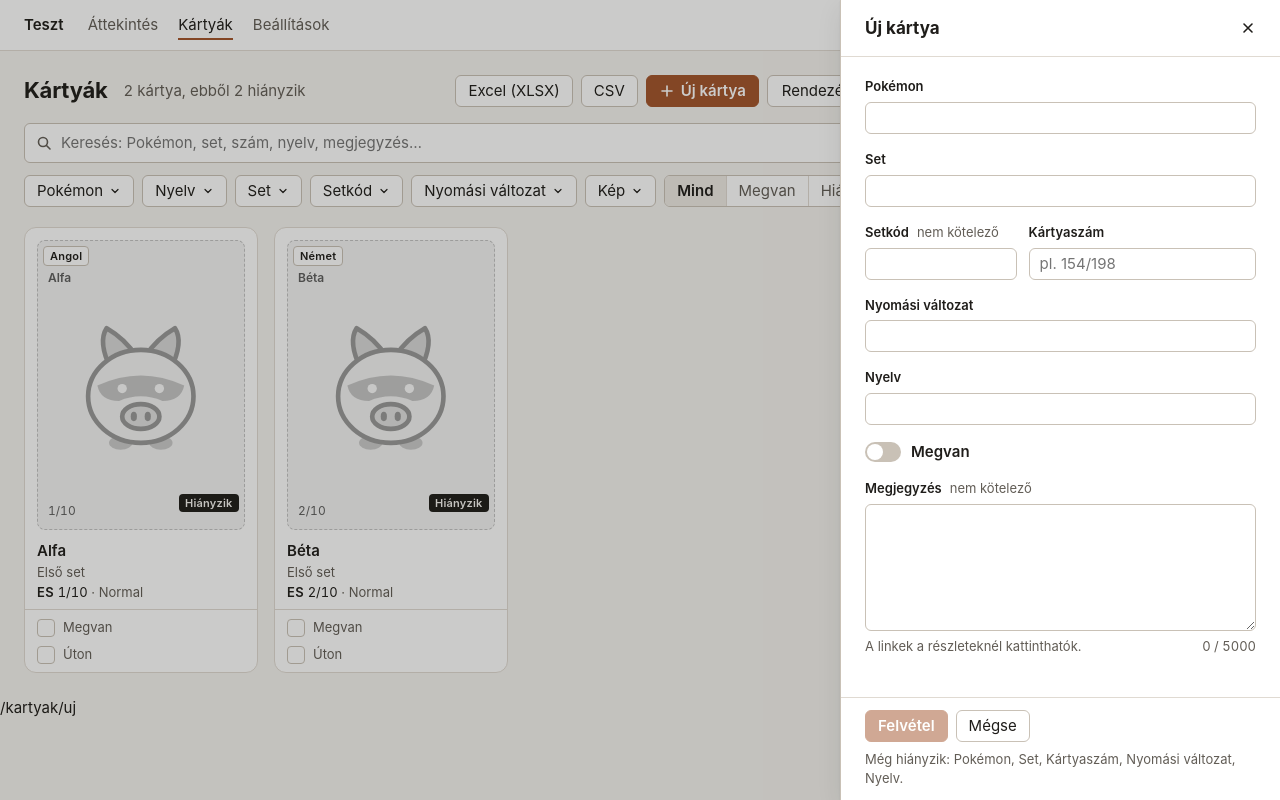
it: új kártya űrlap (S-21) › T-CRD-01: mentés → POST, értesítés, a részletek panel nyílik
Expected: the heading "Új kártya" is shown, x1=865 y1=16 x2=940 y2=40
Expected: the number of list items with test id "card" is 2, x1=24 y1=227 x2=258 y2=673; x1=274 y1=227 x2=507 y2=673
In the dropdown labelled "Pokémon": (1060, 118) x1=865 y1=102 x2=1256 y2=134, type "Gamma"
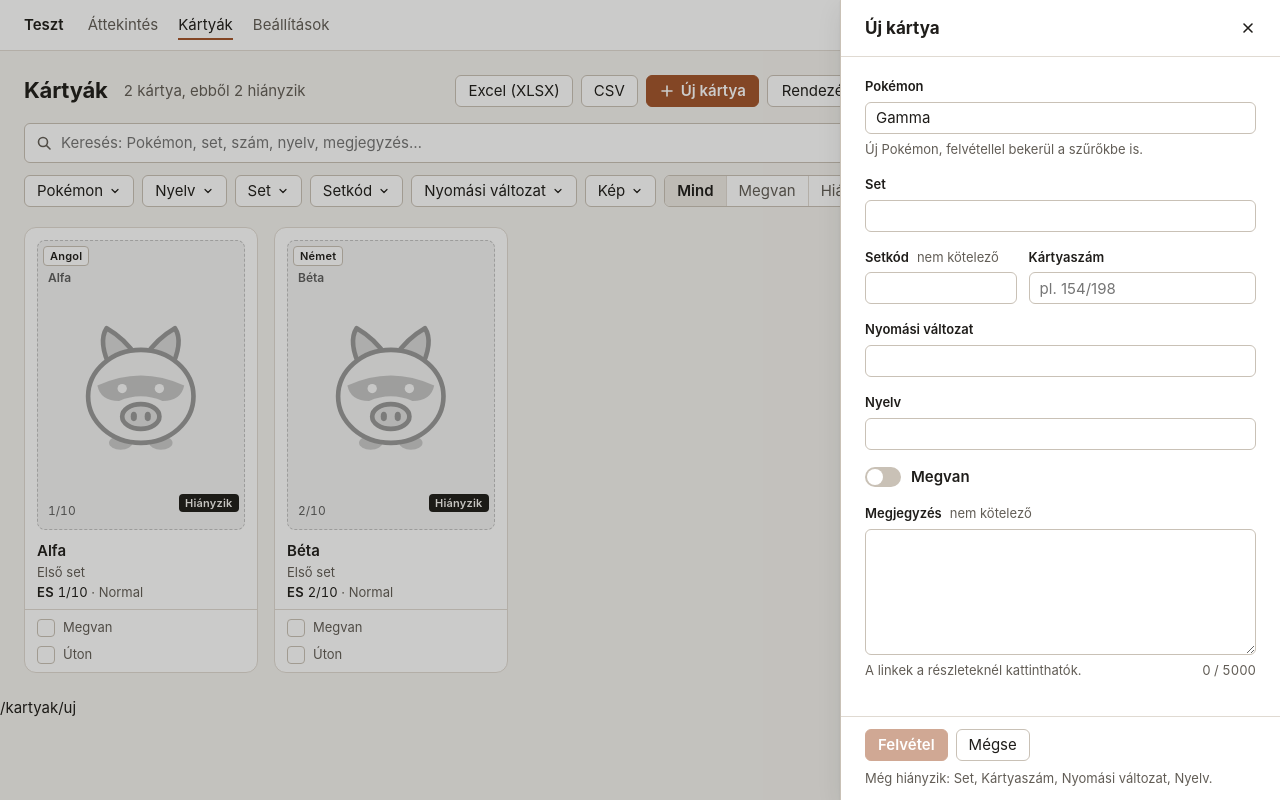
In the dropdown labelled "Set": (1060, 216) x1=865 y1=200 x2=1256 y2=232, type "Első set"
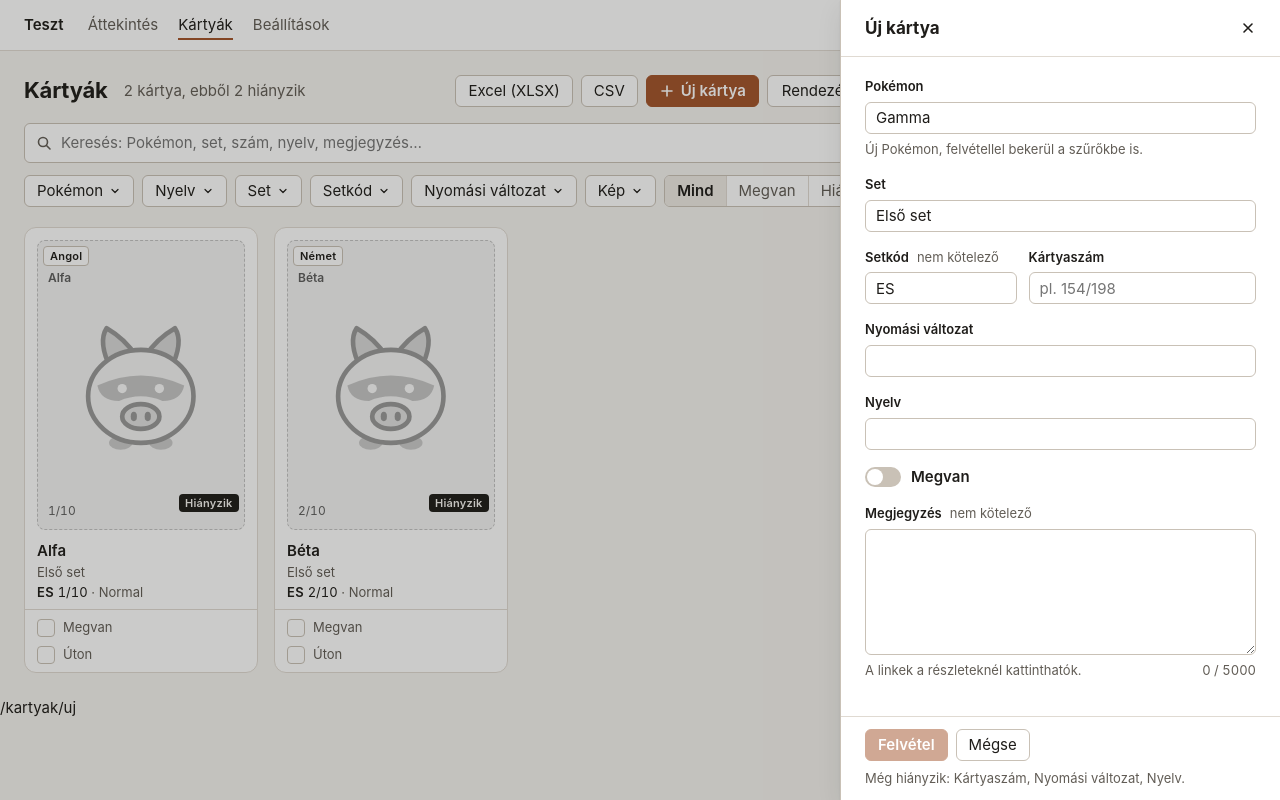
In the field labelled "Kártyaszám": (1142, 288) x1=1029 y1=272 x2=1256 y2=304, type "3/10"
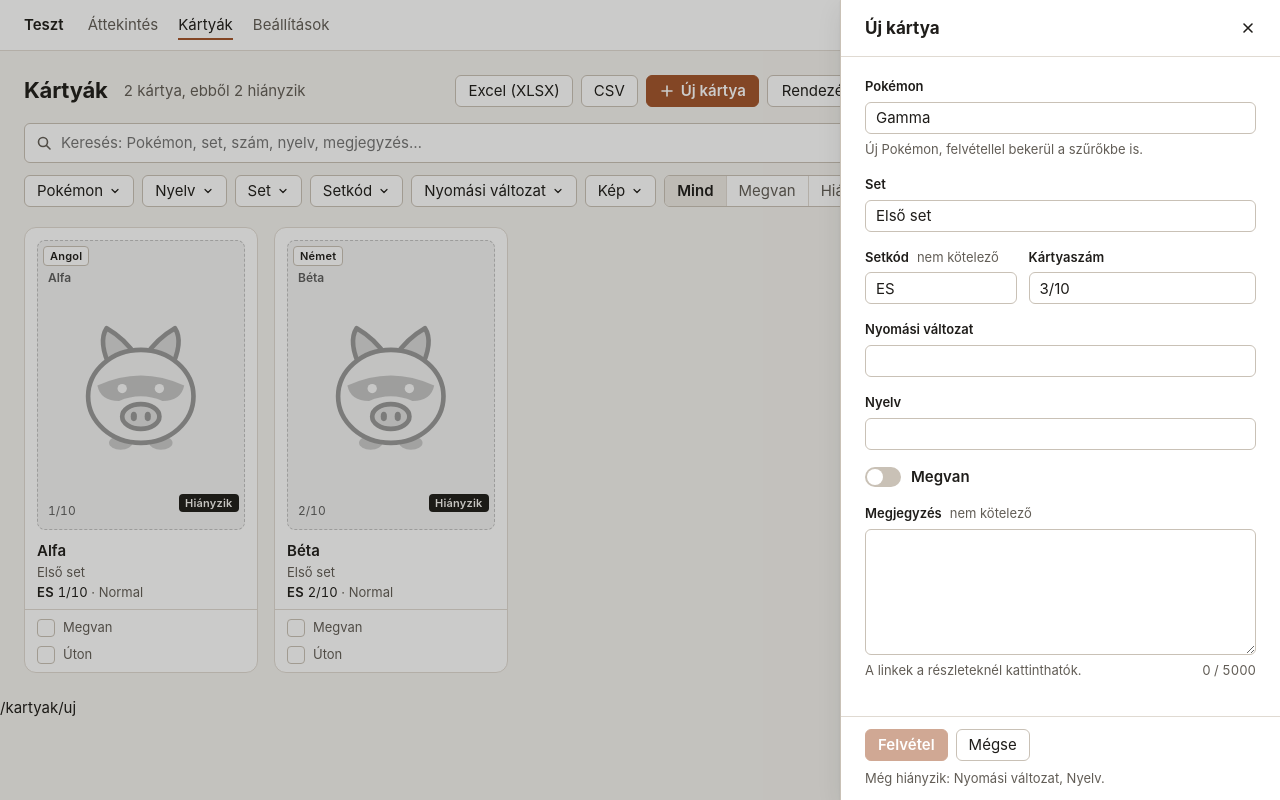
In the dropdown labelled "Nyomási változat": (1060, 361) x1=865 y1=345 x2=1256 y2=377, type "Normal"
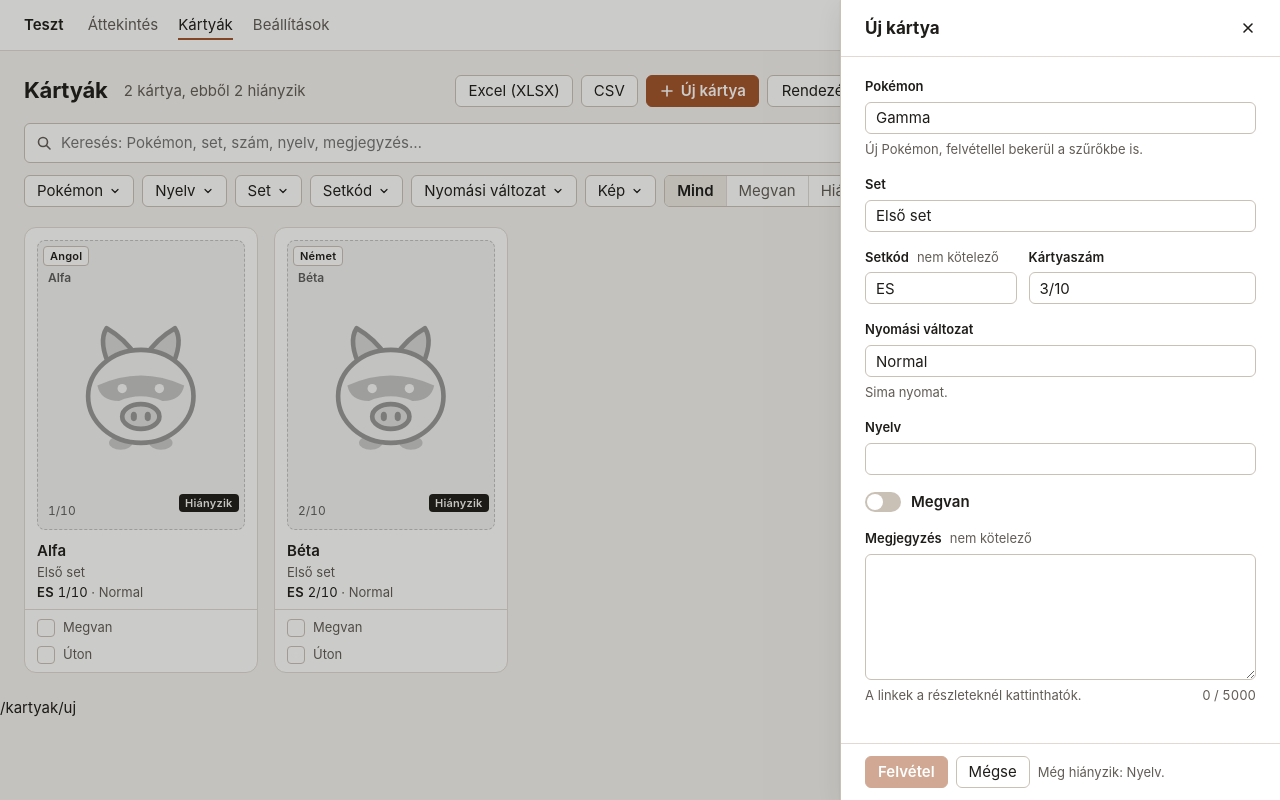
In the dropdown labelled "Nyelv": (1060, 459) x1=865 y1=443 x2=1256 y2=475, type "Angol"
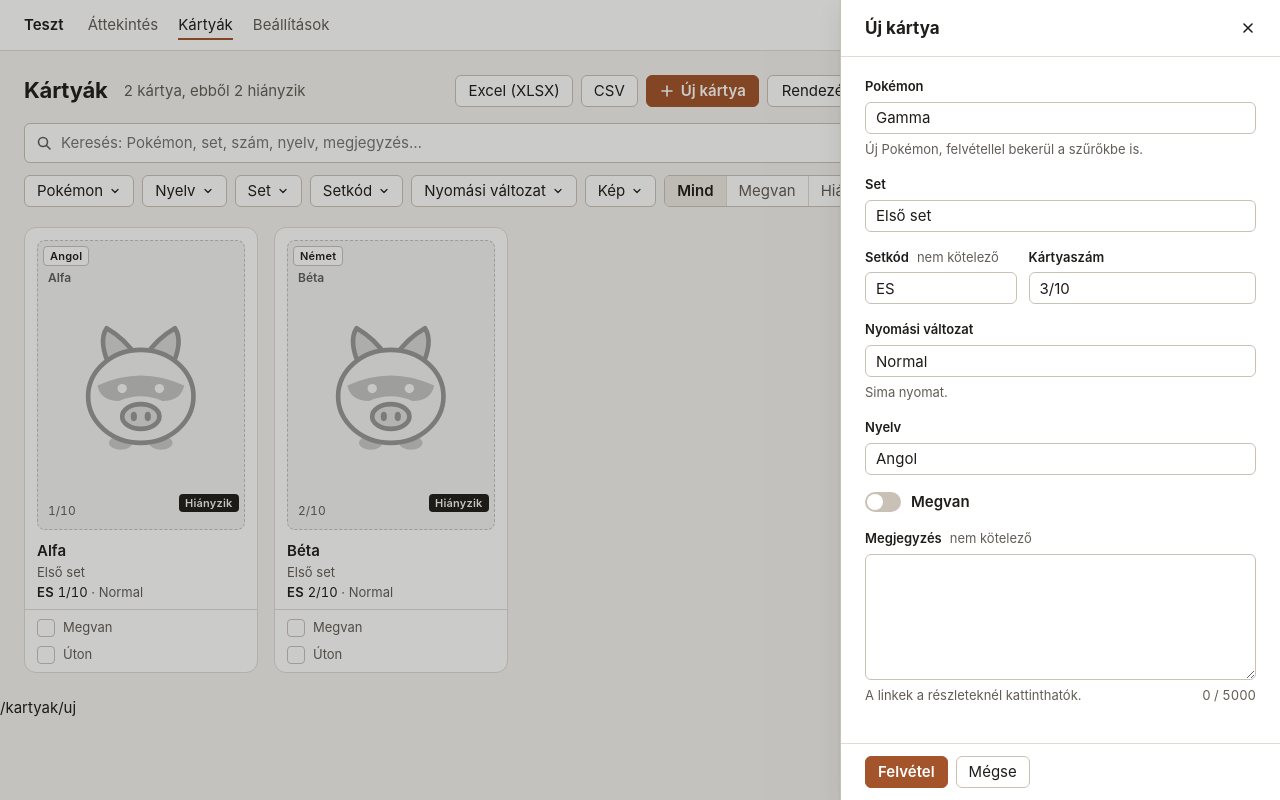
Now the button "Felvétel" is enabled, box x1=865 y1=756 x2=948 y2=788
In the text box labelled "Megjegyzés nem kötelező": (1060, 617) x1=865 y1=554 x2=1256 y2=680, type "Első példány"
Click the button "Felvétel": click(906, 772) x1=865 y1=756 x2=948 y2=788
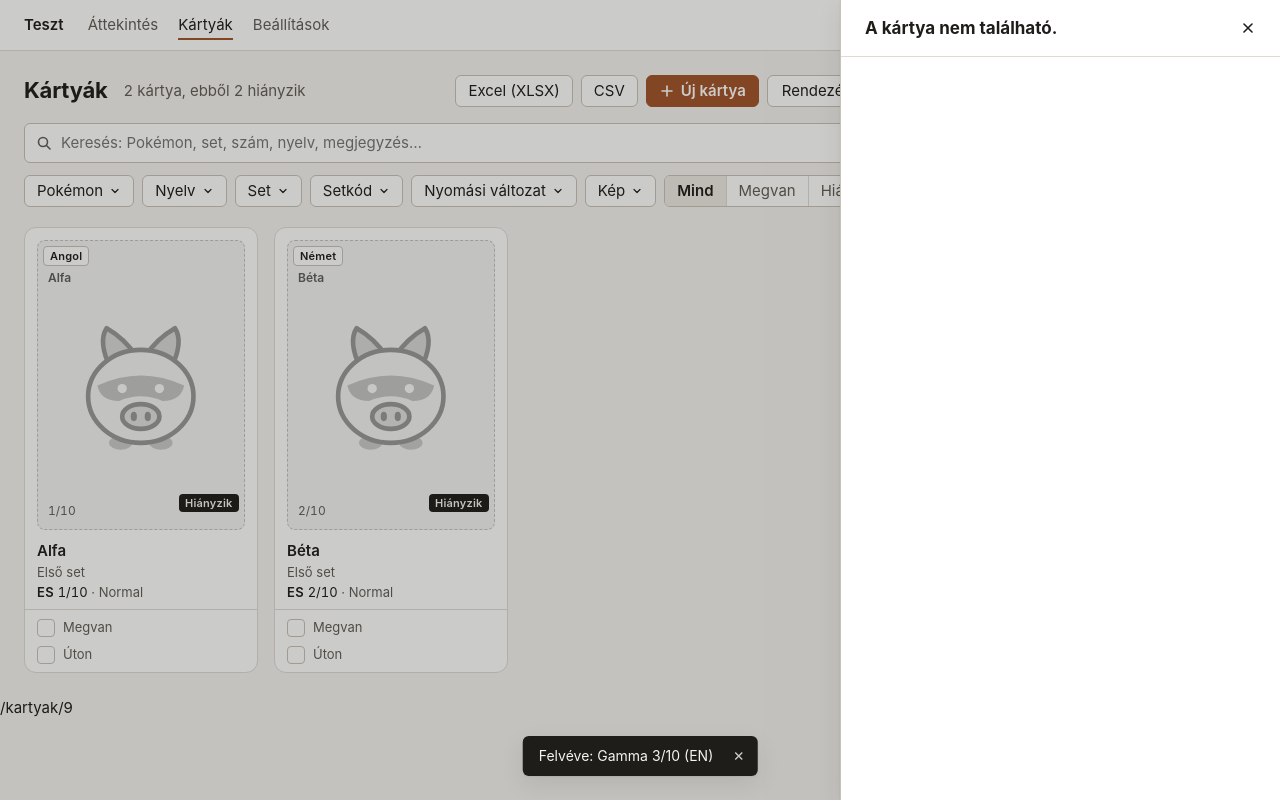
Now the text with test id "location" reads "/kartyak/9", box x1=0 y1=698 x2=73 y2=717
Now the text "Felvéve: Gamma 3/10 (EN)" is shown, box x1=539 y1=746 x2=713 y2=766
